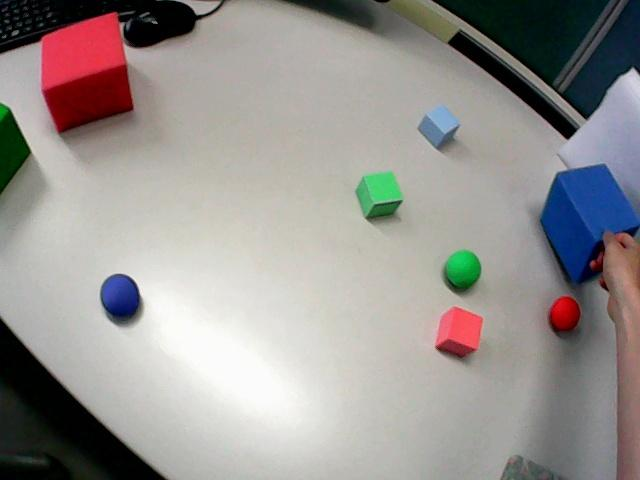blue_block: (541, 164, 639, 282), (418, 105, 459, 147)
red_block: (41, 13, 133, 132), (436, 307, 482, 356)
